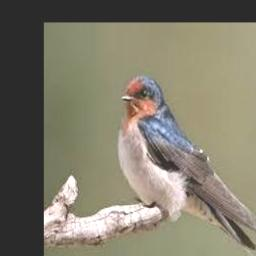Swallow: (117, 75, 256, 256)
